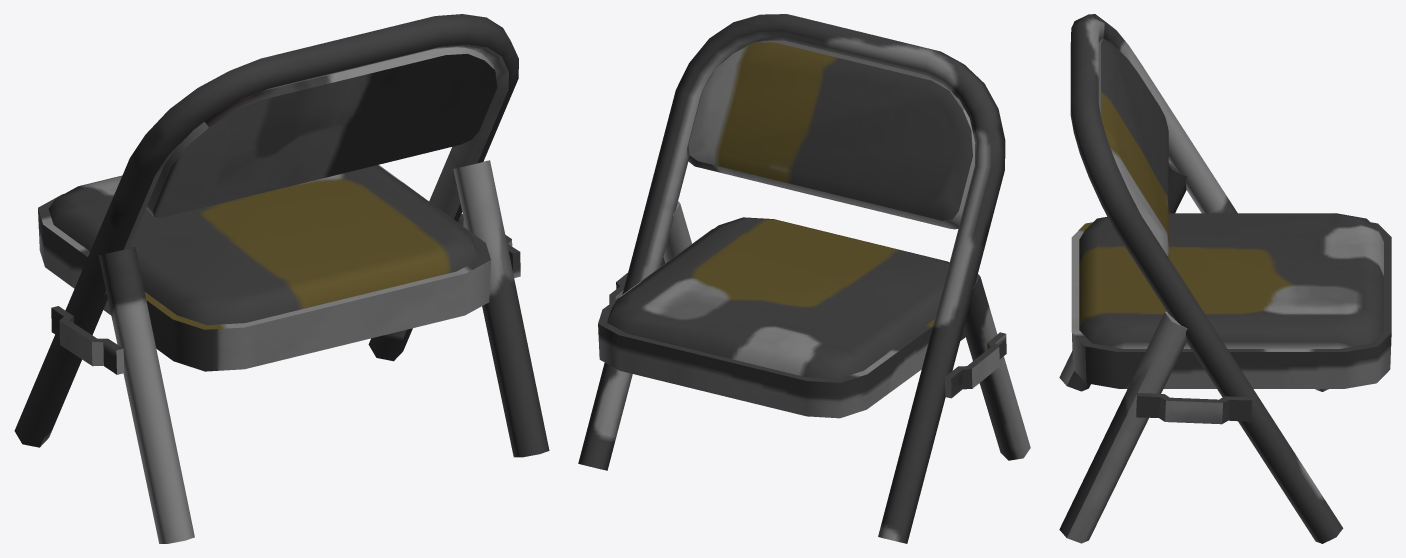
The model's file is Pfb_Chair__3.fbx.
3 renders of one model, left to right at view 1: azimuth 30°, elevation 25°; view 2: azimuth 150°, elevation 25°; view 3: azimuth 270°, elevation 25°, orthographic. The views are drawn at different scales.
Parts seen in each view (by area): view 1: Mat_Chair_02 5; view 2: Mat_Chair_02 5; view 3: Mat_Chair_02 5.
Part boxes in pixels (x1=…): Mat_Chair_02 5: x1=14, y1=14, x2=549, y2=543; Mat_Chair_02 5: x1=578, y1=14, x2=1030, y2=543; Mat_Chair_02 5: x1=1059, y1=14, x2=1391, y2=543.
Bounding box in the file's own units: 0.93 × 0.9795 × 0.7249.
1 material, 1 textured.
